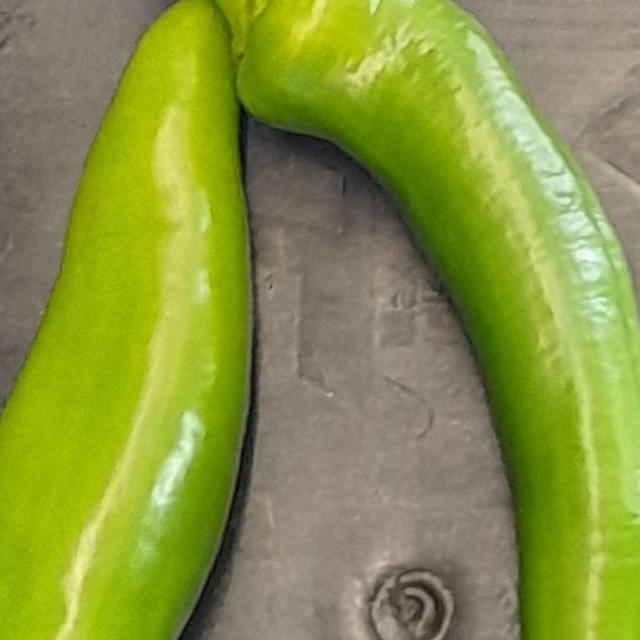chili_pepper: (119, 0, 640, 640), (0, 0, 320, 640)
